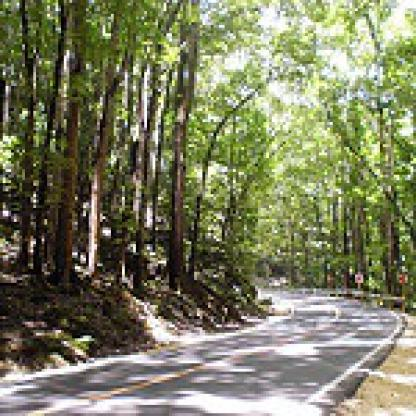road: (0, 271, 411, 414)
tree: (186, 25, 319, 277)
trunk: (161, 11, 202, 283), (52, 61, 89, 277), (83, 72, 119, 277), (14, 47, 36, 272), (347, 205, 366, 294)
